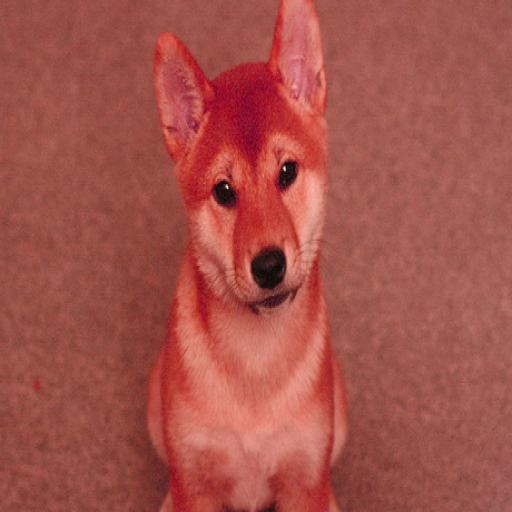dog_face: (158, 0, 332, 311)
